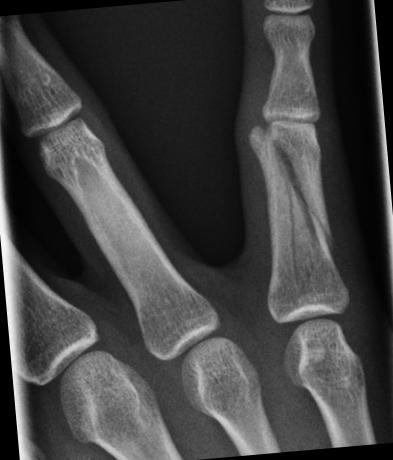fracture: (252, 116, 342, 275)
